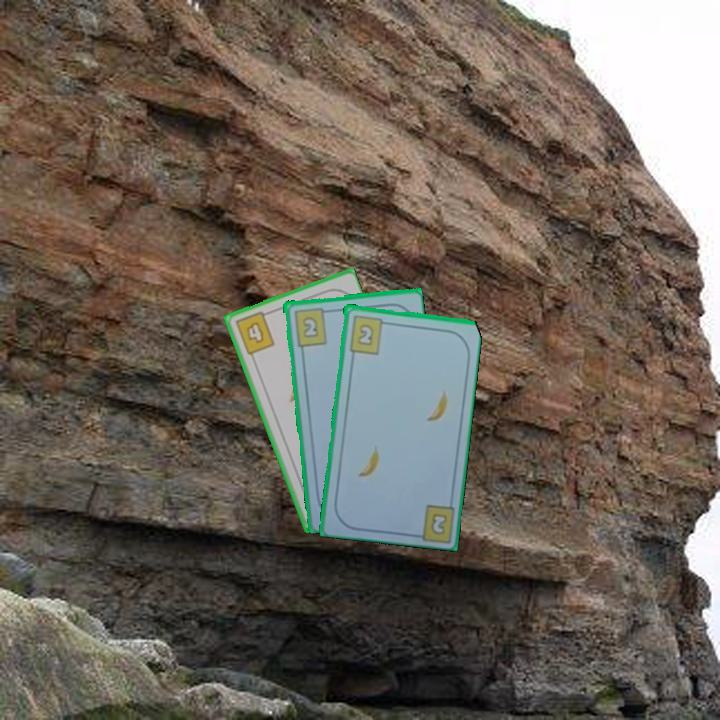2b: (345, 311, 391, 356), (290, 304, 332, 349), (427, 510, 450, 538)
4b: (231, 307, 277, 358)
